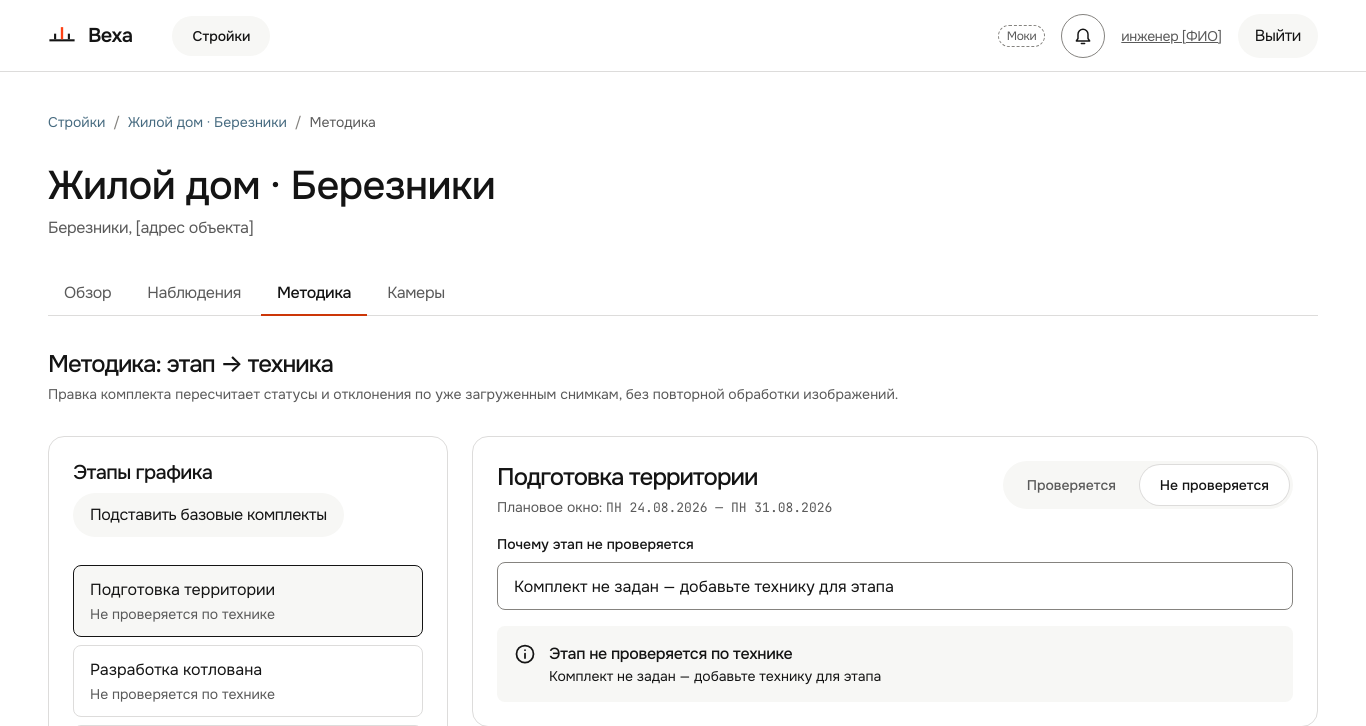
MethodologyPage › shows error when apply defaults fails
Click the button "Подставить базовые комплекты" at coordinates (208, 515), box [73,493,344,537]
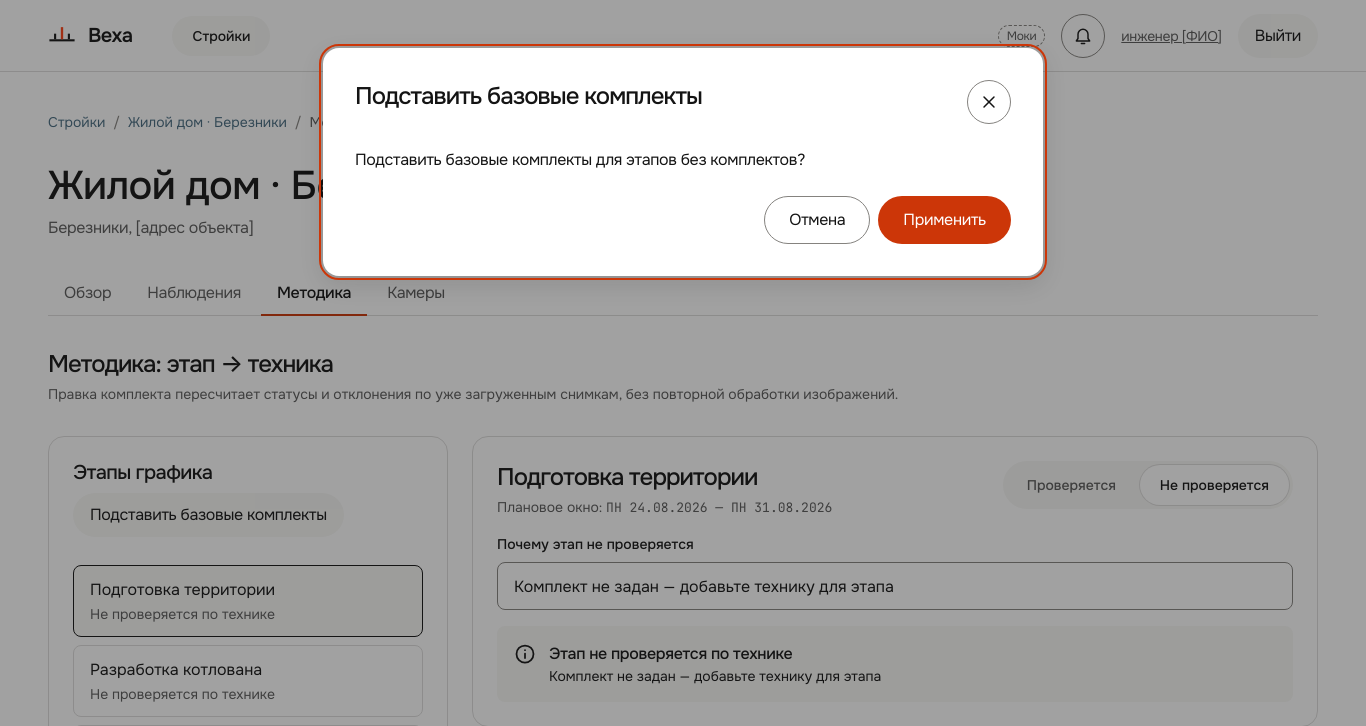
Click the button "Применить" at coordinates (945, 220), box [878,196,1011,244]
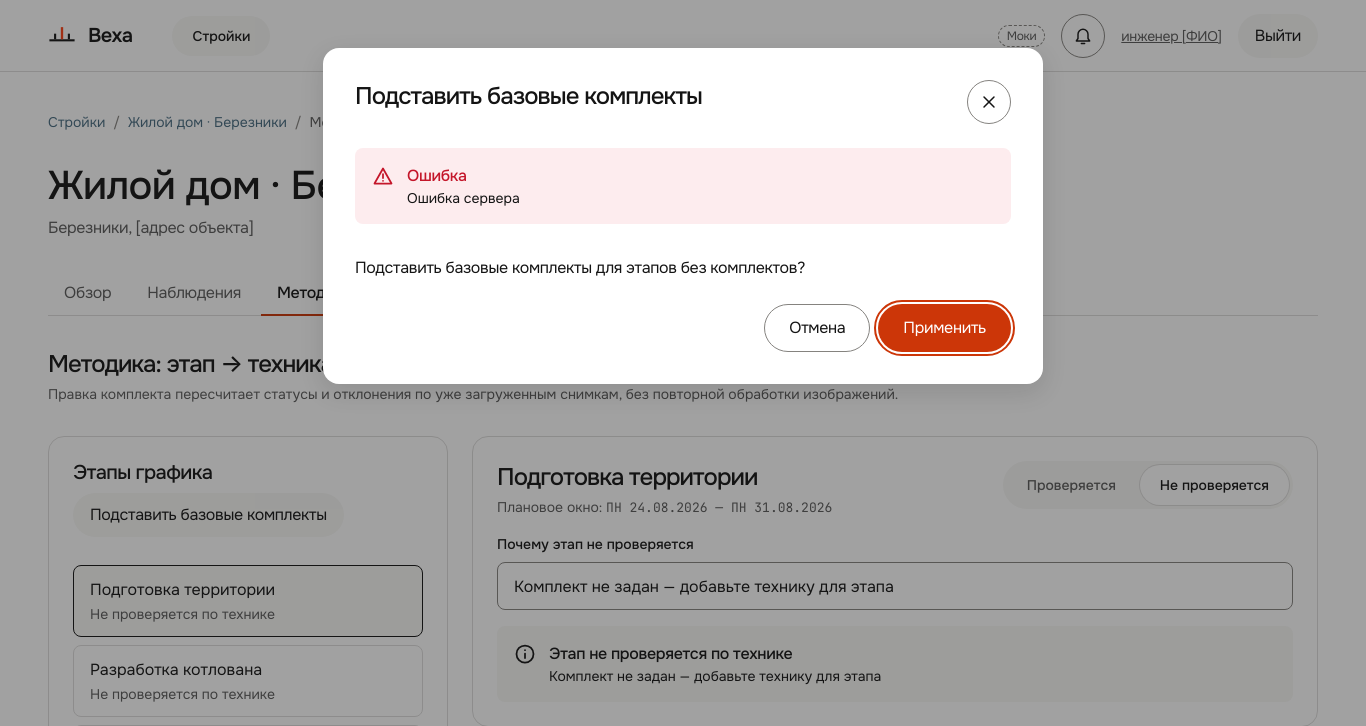
Expected: the text "Ошибка сервера" is shown, [407,189,520,207]
